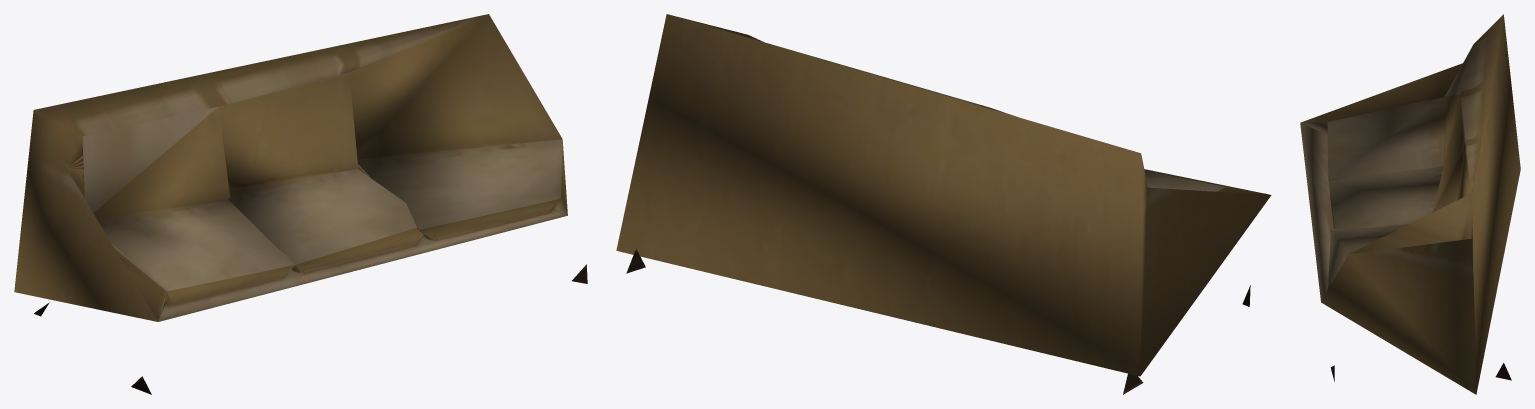
File: sofa_leather-low.glb
3 renders of one model, left to right at view 1: azimuth 30°, elevation 25°; view 2: azimuth 150°, elevation 25°; view 3: azimuth 270°, elevation 25°, orthographic. The views are drawn at different scales.
Parts seen in each view (by area): view 1: sofa_leather-low; view 2: sofa_leather-low; view 3: sofa_leather-low.
Boxes of the visible parts, x1,y1,x2,y2 form: sofa_leather-low: [14, 14, 587, 394]; sofa_leather-low: [616, 14, 1271, 394]; sofa_leather-low: [1300, 14, 1520, 394].
Size of the model in its own units: 2.13 by 0.9061 by 0.9807.
1 material, 1 textured.
